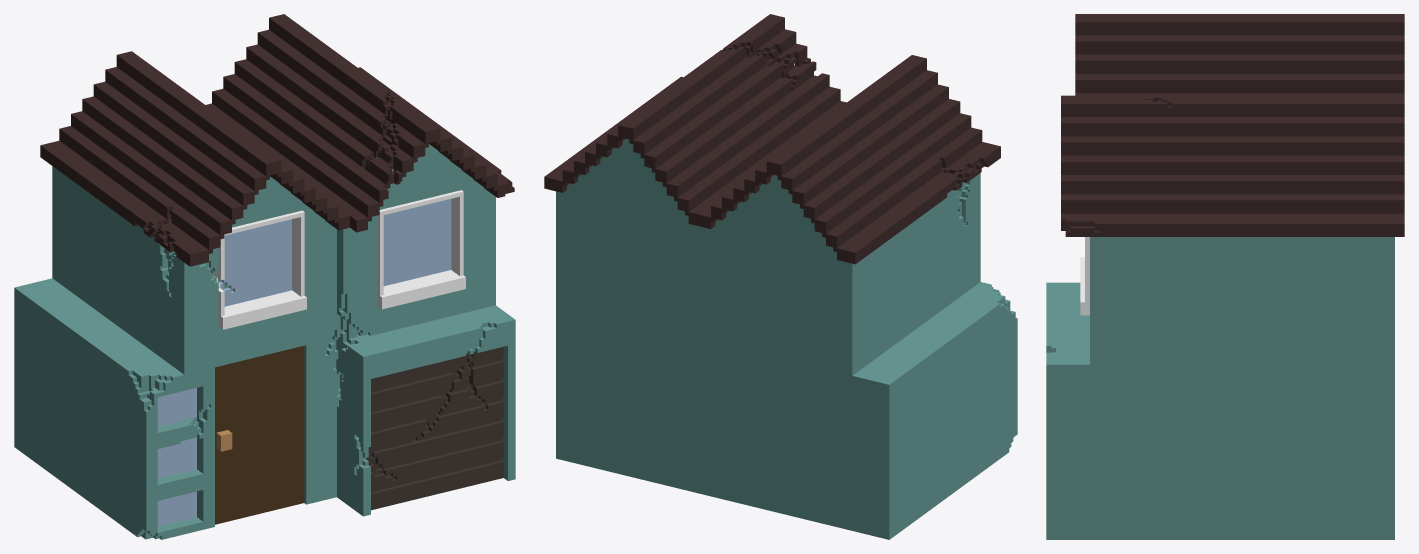
Rendered from Background_A_house_03.FBX.
3 renders of one model, left to right at view 1: azimuth 30°, elevation 25°; view 2: azimuth 150°, elevation 25°; view 3: azimuth 270°, elevation 25°, orthographic. The views are drawn at different scales.
Visible parts, largest first — view 1: Load_A-26; view 2: Load_A-26; view 3: Load_A-26.
Boxes of the visible parts, box(x1,y1,x2,y2) form: Load_A-26: box(14, 14, 515, 539); Load_A-26: box(544, 14, 1017, 539); Load_A-26: box(1046, 14, 1404, 539).
Size of the model in its own units: 9.2 by 9.1 by 7.4.
Materials: 1 (1 with a texture image).
